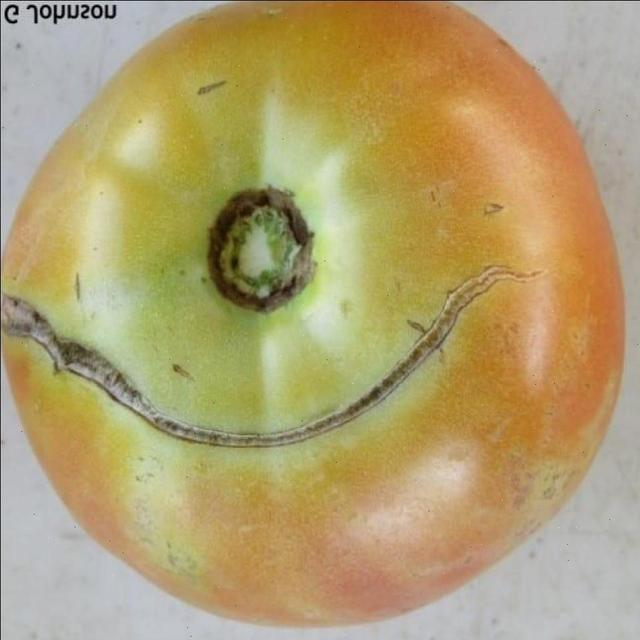Cracking Fruit: (0, 165, 356, 303)
